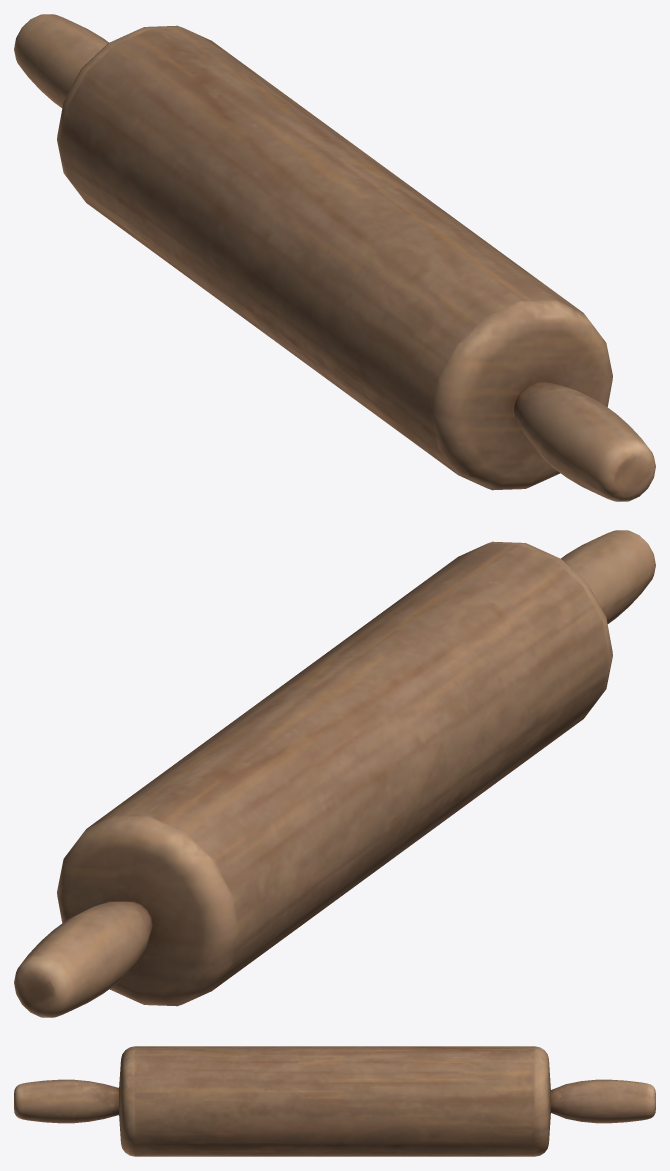
Rendered from SM_KitchenUstensil_Roll.fbx.
The picture shows the model from 3 angles, top to bottom: view 1: azimuth 30°, elevation 25°; view 2: azimuth 150°, elevation 25°; view 3: azimuth 270°, elevation 25°; orthographic projection. The views are drawn at different scales.
Visible parts, largest first — view 1: SM_KitchenUstensil_Roll_LOD0; view 2: SM_KitchenUstensil_Roll_LOD0; view 3: SM_KitchenUstensil_Roll_LOD0.
Part boxes in pixels (<box>): SM_KitchenUstensil_Roll_LOD0: <box>14,14,655,501</box>; SM_KitchenUstensil_Roll_LOD0: <box>14,530,655,1017</box>; SM_KitchenUstensil_Roll_LOD0: <box>14,1046,655,1156</box>.
Bounding box in the file's own units: 9.74 × 56.64 × 9.74.
Materials: 1 (1 with a texture image).
